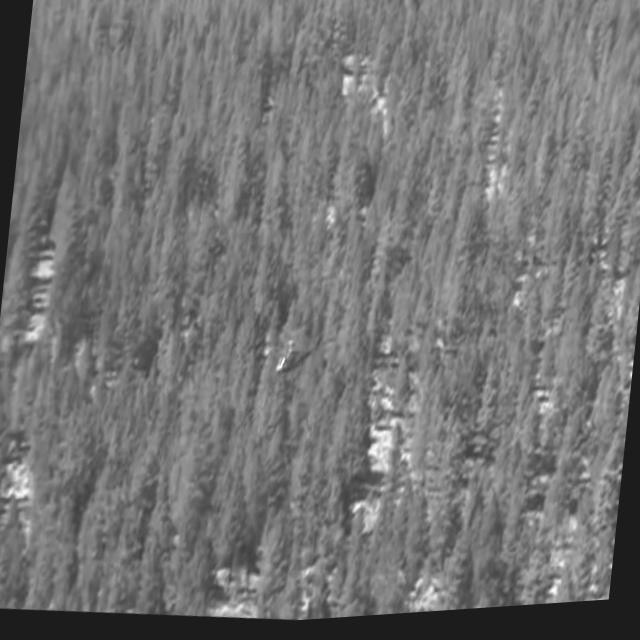helikopter: (245, 308, 343, 419)
